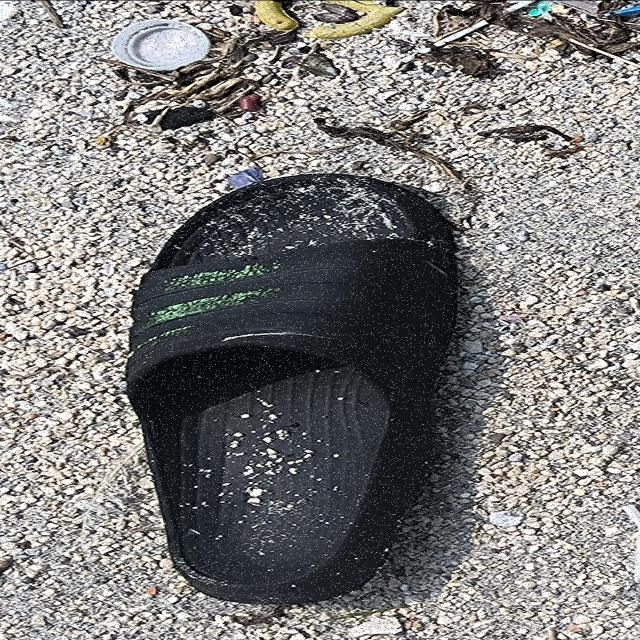plastic_waste: (110, 19, 213, 72)
rubber_waste: (127, 172, 462, 606)
